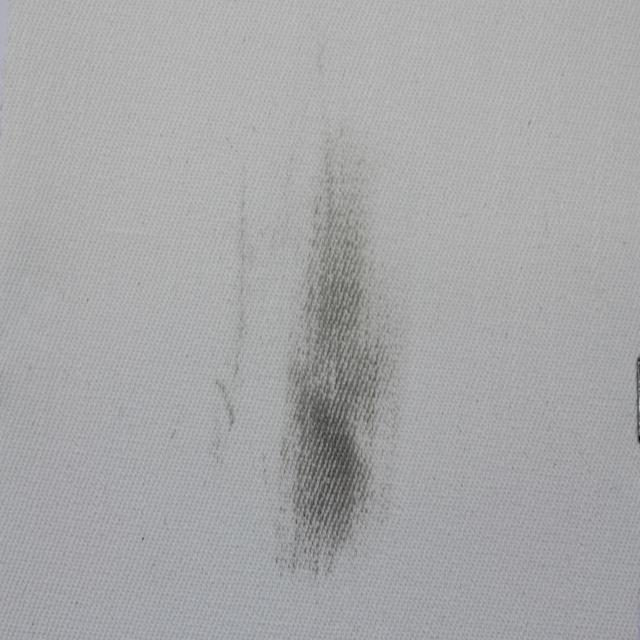stain: (248, 130, 404, 602), (205, 169, 257, 481)
